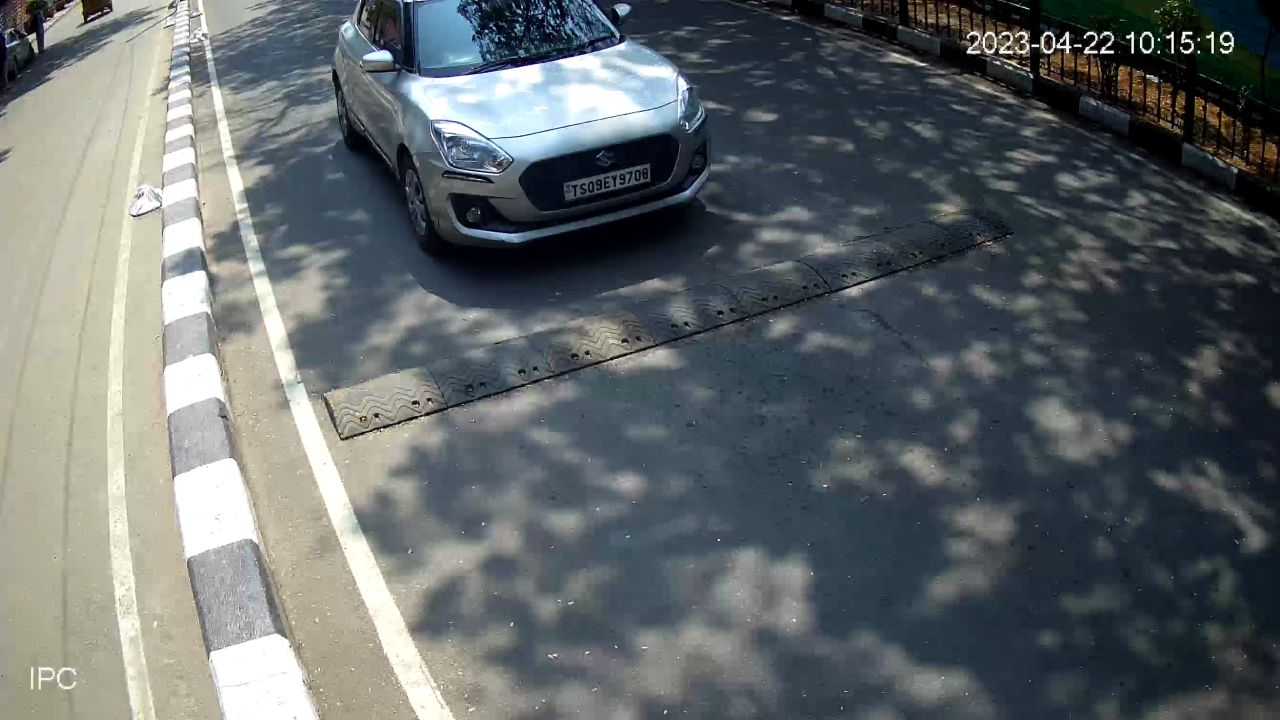license_plate: (559, 157, 657, 211)
